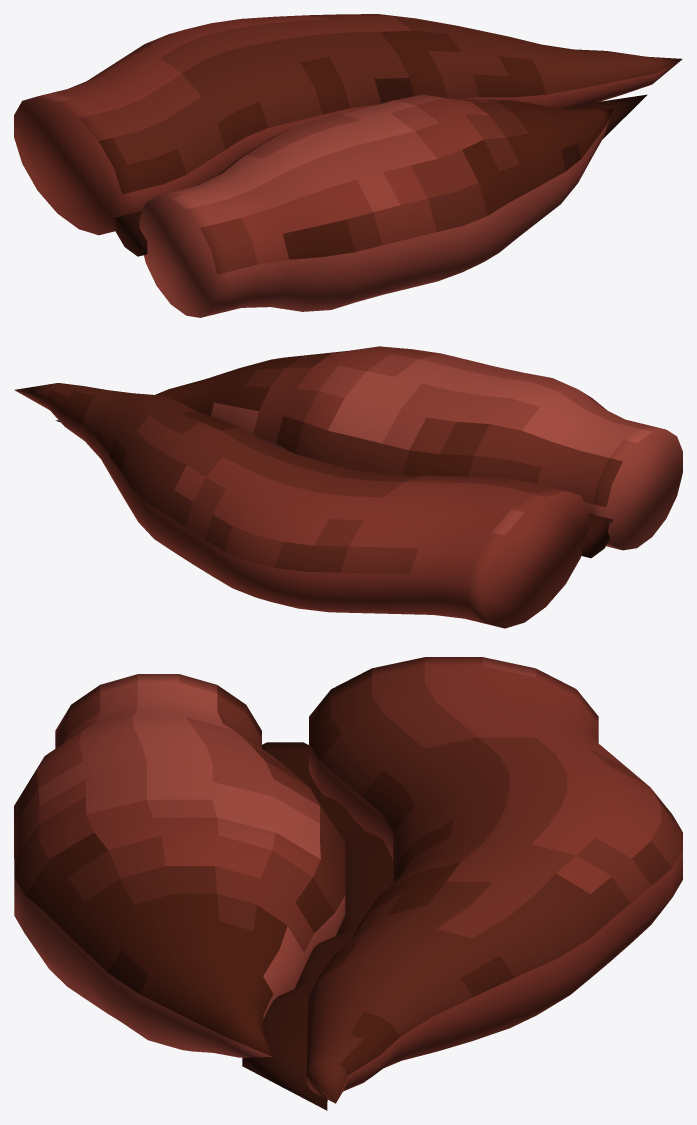
The model's file is newsh-caret-208.glb.
3 renders of one model, top to bottom at view 1: azimuth 30°, elevation 25°; view 2: azimuth 150°, elevation 25°; view 3: azimuth 270°, elevation 25°, orthographic. The views are drawn at different scales.
Visible parts, largest first — view 1: newsh-caret-208; view 2: newsh-caret-208; view 3: newsh-caret-208.
Boxes of the visible parts, x1,y1,x2,y2 form: newsh-caret-208: (14,14,682,317); newsh-caret-208: (14,346,682,628); newsh-caret-208: (14,657,682,1110).
Size of the model in its own units: 1.74 by 0.4217 by 1.32.
